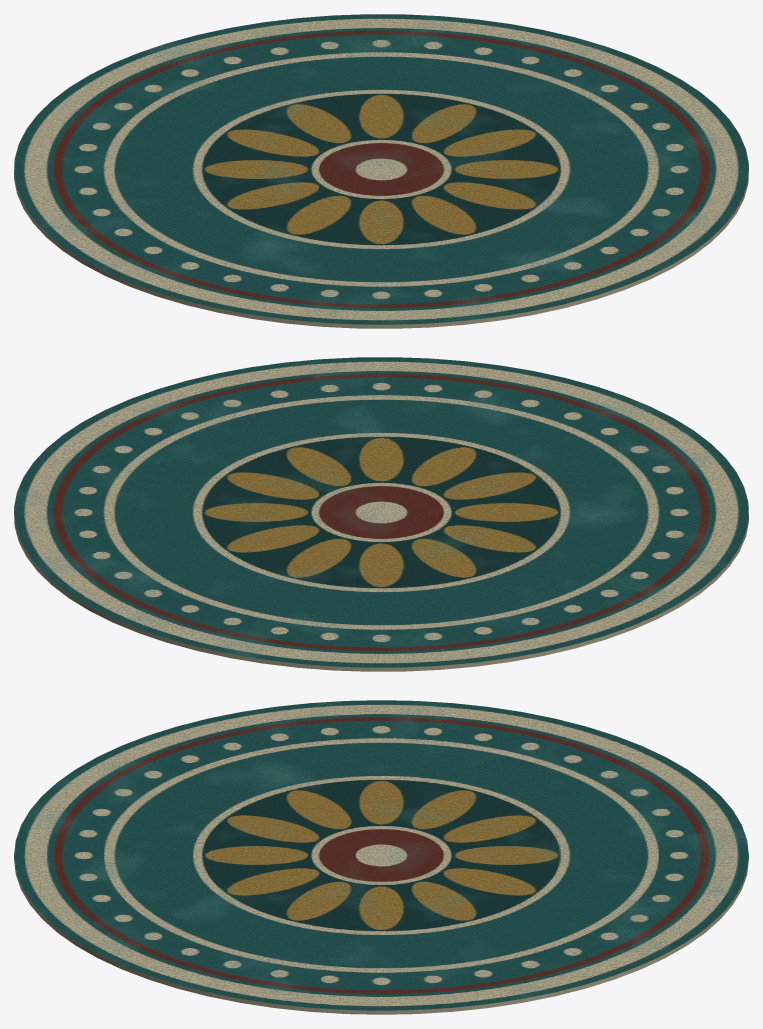
Rendered from rug-round.glb.
The picture shows the model from 3 angles, top to bottom: view 1: azimuth 30°, elevation 25°; view 2: azimuth 150°, elevation 25°; view 3: azimuth 270°, elevation 25°; orthographic projection.
Parts seen in each view (by area): view 1: RugRound; view 2: RugRound; view 3: RugRound.
Part boxes in pixels (<box>): RugRound: <box>14,14,748,328</box>; RugRound: <box>14,357,748,671</box>; RugRound: <box>14,700,748,1014</box>.
Bounding box in the file's own units: 2 × 0.012 × 2.
1 material, 1 textured.
